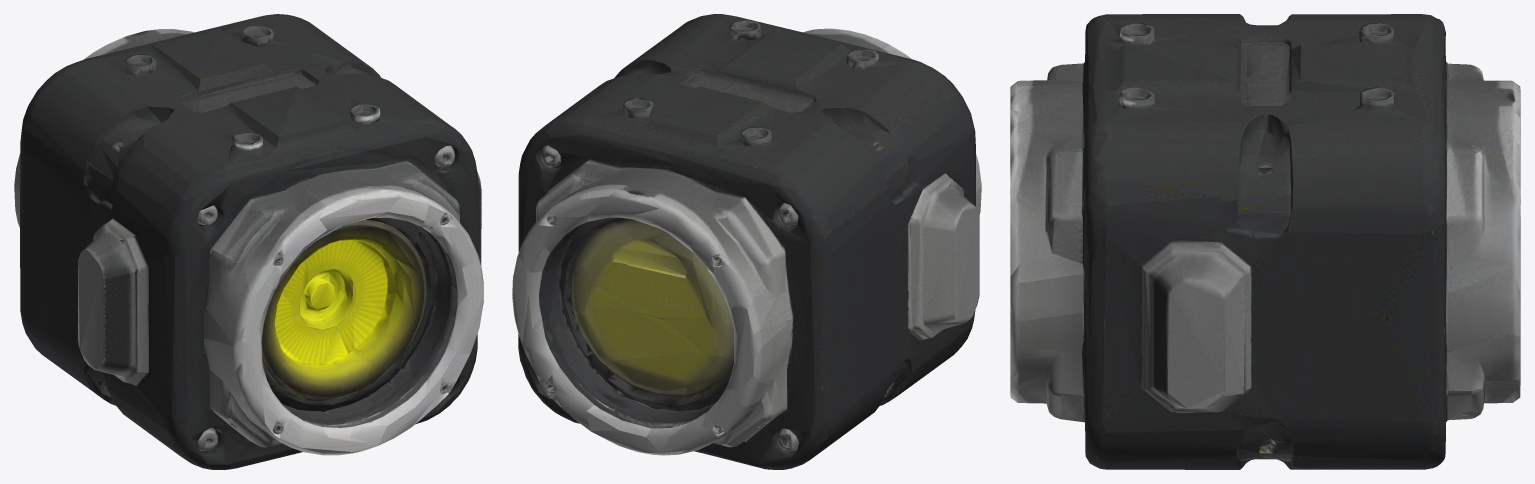
Rendered from sensor-head.glb.
3 views of the same model, side by side, from view 1: azimuth 30°, elevation 25°; view 2: azimuth 150°, elevation 25°; view 3: azimuth 270°, elevation 25° (orthographic). The views are drawn at different scales.
Parts seen in each view (by area): view 1: mesh_node; view 2: mesh_node; view 3: mesh_node.
Boxes of the visible parts, x1,y1,x2,y2 form: mesh_node: [14, 14, 483, 469]; mesh_node: [512, 14, 981, 469]; mesh_node: [1010, 14, 1520, 469].
Size of the model in its own units: 1.83 by 1.48 by 1.9.
Materials: 1 (1 with a texture image).
